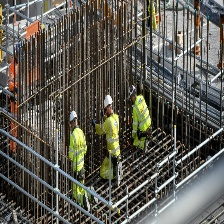helmet: (103, 93, 114, 110), (68, 107, 79, 123), (127, 83, 135, 98)
person: (97, 95, 124, 187), (67, 108, 90, 208), (128, 80, 151, 153)
vest: (68, 128, 88, 177), (102, 114, 120, 158), (133, 98, 150, 133)
